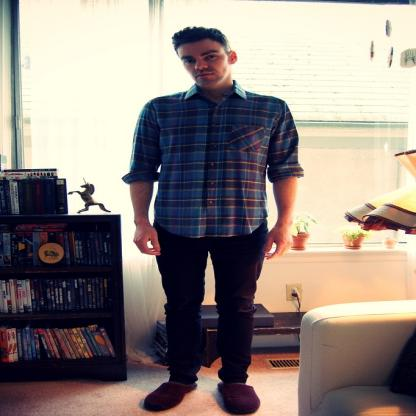book: (0, 220, 119, 271), (0, 326, 114, 368), (0, 276, 115, 316), (0, 166, 72, 216)
